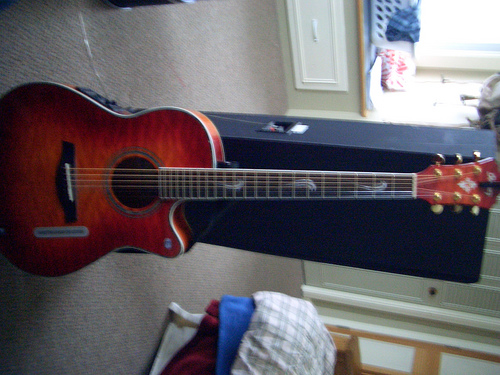guitar: (1, 80, 499, 280)
